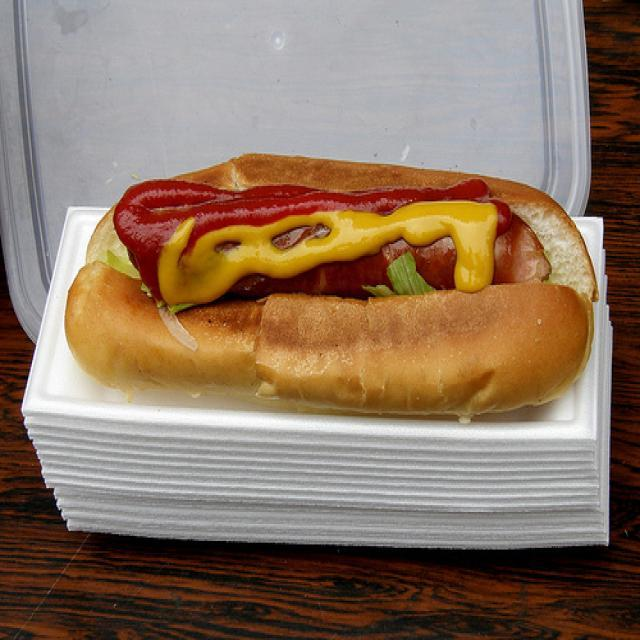Hot Dog: (64, 142, 596, 425)
